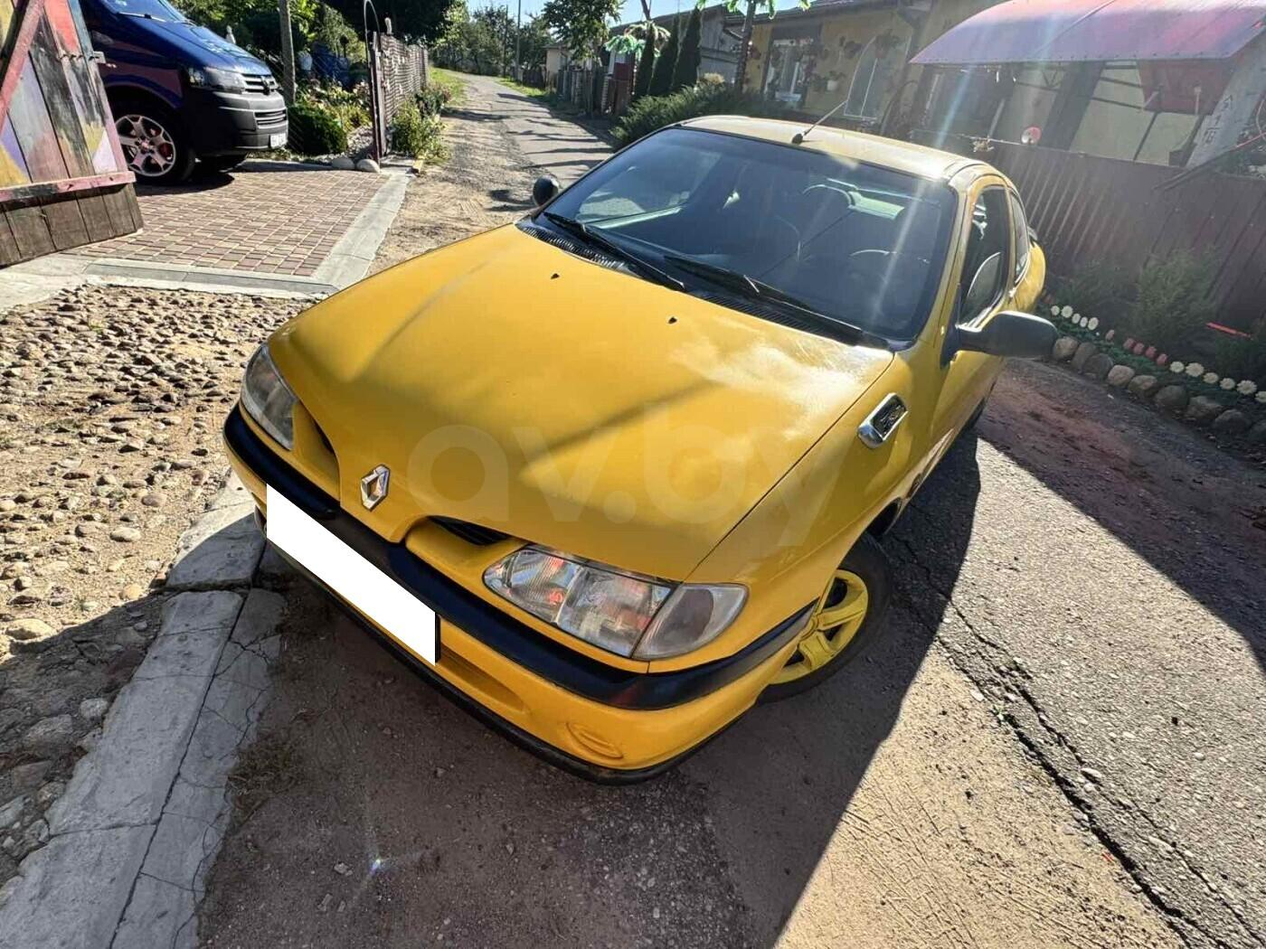Megane_1995-1999: (225, 97, 1055, 753)
